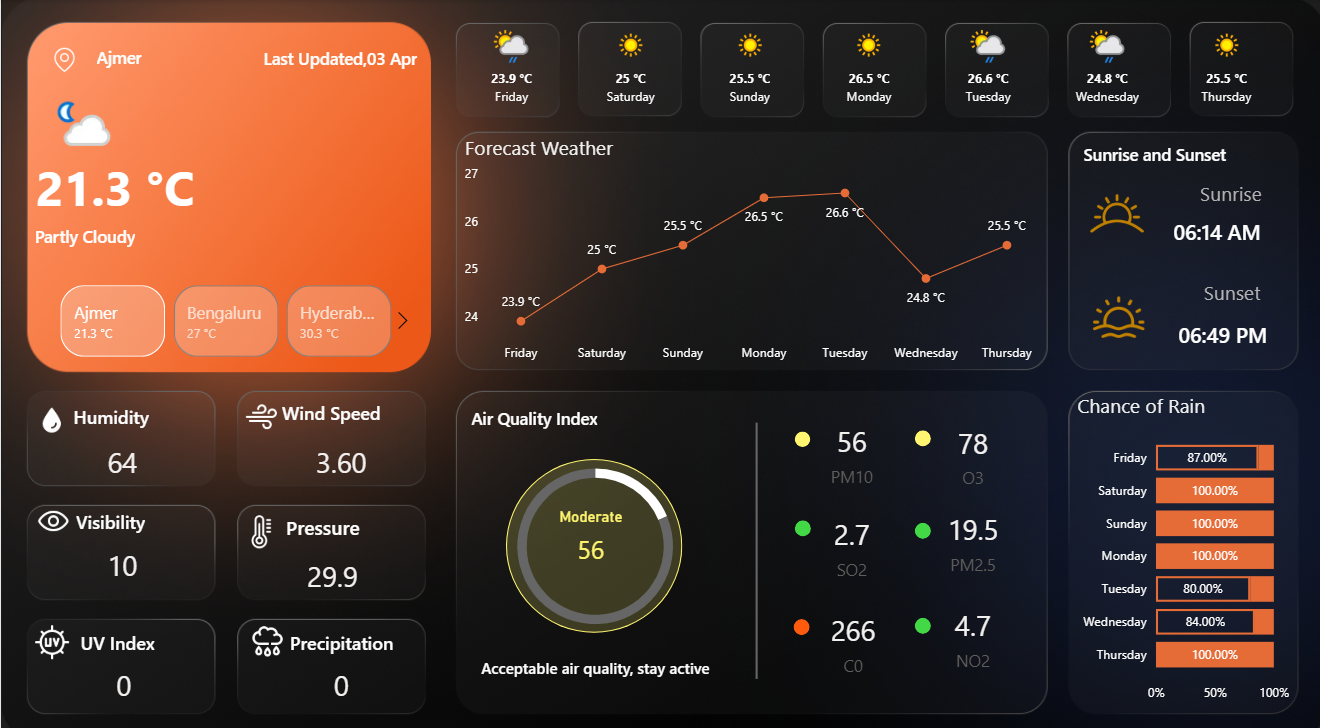

Layout of this report page (visuals, bound fields, positions):
{"tool":"powerbi","page":{"name":"Page 1","canvas":[1280,720],"ordinal":0},"visuals":[{"type":"advancedSlicerVisual","fields":{"Values":["Locations.location.name"],"Label":["_Measures.Curr_Temp_C"]},"box":[32.7,271.3,370.6,79.9],"z":0},{"type":"shape","box":[33.9,150.2,197.4,54.5],"z":1000},{"type":"shape","box":[32.7,204.7,296.7,47.2],"z":2000},{"type":"shape","box":[35,32.4,157.9,47.9],"z":3000},{"type":"shape","box":[235.3,33.8,184.6,47.1],"z":4000},{"type":"image","box":[16.8,46.6,89.3,23.3],"z":5000},{"type":"image","box":[36.2,389.6,25.9,33.7],"z":6000},{"type":"shape","box":[49.2,380.6,113.9,46.6],"z":7000},{"type":"image","box":[235.6,381.9,32.4,41.4],"z":8000},{"type":"shape","box":[235.6,375.4,167,47.9],"z":9000},{"type":"shape","box":[40.1,480.3,132,47.9],"z":10000},{"type":"shape","box":[53.1,596.8,119.1,47.9],"z":11000},{"type":"shape","box":[239.5,486.7,141.1,47.9],"z":12000},{"type":"shape","box":[264.1,596.8,129.5,47.9],"z":13000},{"type":"image","box":[32.4,486.7,36.2,35],"z":14000},{"type":"image","box":[235.6,493.2,32.4,41.4],"z":15000},{"type":"image","box":[29.8,603.2,38.8,35],"z":16000},{"type":"image","box":[235.6,601.9,44,36.2],"z":17000},{"type":"card","fields":{"Values":["Sum(Current.current.humidity)"]},"box":[34.1,423.1,167,50],"z":18000},{"type":"card","fields":{"Values":["Sum(Current.current.wind_kph)"]},"box":[245.1,423.1,167,50],"z":19000},{"type":"card","fields":{"Values":["Sum(Current.current.pressure_in)"]},"box":[236.5,532.8,167,50],"z":20000},{"type":"card","fields":{"Values":["Sum(Current.current.uv)"]},"box":[35.4,637.7,167,50],"z":21000},{"type":"card","fields":{"Values":["Sum(Current.current.precip_mm)"]},"box":[245.1,637.7,167,50],"z":22000},{"type":"card","fields":{"Values":["Sum(Current.current.vis_km)"]},"box":[34.1,521.9,167,50],"z":23000},{"type":"advancedSlicerVisual","fields":{"Values":["Forecast_Day.Day_Name"],"Label":["_Measures.For_Temp_C"]},"box":[434.1,18.3,809.6,102.4],"z":24000},{"type":"lineChart","title":"Forecast Weather","fields":{"Y":["Sum(Forecast_Day.forecast.forecastday.day.avgtemp_c)"],"Category":["Forecast_Day.Day_Name"]},"box":[442.8,130.3,564.6,229.2],"z":25000},{"type":"shape","box":[1033.9,126.7,159.3,45.8],"z":26000},{"type":"shape","box":[1131.6,265.4,113.4,35],"z":27000},{"type":"shape","box":[1131.6,197.9,112.2,54.3],"z":28000},{"type":"shape","box":[1136.5,296.8,112.2,54.3],"z":29000},{"type":"shape","box":[1130.4,172.5,113.4,29],"z":30000},{"type":"image","box":[1043.6,282.3,70,49.5],"z":31000},{"type":"image","box":[1041.2,172.5,72.4,68.8],"z":32000},{"type":"hundredPercentStackedBarChart","title":"Chance of Rain","fields":{"Y":["Sum(Forecast_Day.forecast.forecastday.day.daily_chance_of_rain)","Current.Left_value_Rain"],"Category":["Forecast_Day.Day_Name"]},"box":[1033.9,380,214.7,307.6],"z":33000},{"type":"shape","box":[442.2,380.8,144.1,46.3],"z":34000},{"type":"card","fields":{"Values":["Sum(Current.current.air_quality.pm10)"]},"box":[773.8,405.4,95.9,67.8],"z":35000},{"type":"card","fields":{"Values":["Sum(Current.current.air_quality.o3)"]},"box":[890.2,406.7,95.9,67.8],"z":36000},{"type":"card","fields":{"Values":["Sum(Current.current.air_quality.so2)"]},"box":[773.8,495,95.9,67.8],"z":37000},{"type":"card","fields":{"Values":["Sum(Current.current.air_quality.pm2_5)"]},"box":[890.2,489.8,95.9,67.8],"z":38000},{"type":"card","fields":{"Values":["Sum(Current.current.air_quality.no2)"]},"box":[890.2,583.2,95.9,67.8],"z":39000},{"type":"card","fields":{"Values":["Sum(Current.current.air_quality.co)"]},"box":[775.1,587.1,95.9,67.8],"z":40000},{"type":"shape","box":[766.1,417.4,15,15],"z":41000},{"type":"shape","box":[766.1,503.1,15.7,15.7],"z":42000},{"type":"shape","box":[764.9,598.4,15.7,15.7],"z":43000},{"type":"shape","box":[881.9,416.2,15.7,15.7],"z":44000},{"type":"shape","box":[881.9,505.5,15.7,15.7],"z":45000},{"type":"shape","box":[881.9,597.2,15.7,15.7],"z":46000},{"type":"shape","box":[685.3,409,88.1,247.3],"z":47000},{"type":"shape","box":[487.4,444,170.1,167.7],"z":48000},{"type":"card","fields":{"Values":["Sum(Current.current.air_quality.pm10)"]},"box":[528.4,491,82,66.4],"z":49000},{"type":"donutChart","fields":{"Y":["Sum(Current.current.air_quality.pm10)","_Measures.Left_value_PM10"]},"box":[458.4,429.5,230.4,197.9],"z":50000},{"type":"shape","box":[451.2,622.5,244.9,45.8],"z":51000},{"type":"cardVisual","fields":{"Data":["Min(Current.current.condition.icon)"]},"box":[26.5,18.1,106.2,156.8],"z":52000}]}

Visuals, with their boxes in screenshot pixels (x1, y1, x2, y2), scaled from the page's 1280x720 canvas onto the 1320x728 screenshot:
advancedSlicerVisual - Locations.location.name x _Measures.Curr_Temp_C: x1=34, y1=274, x2=416, y2=355
shape: x1=35, y1=152, x2=239, y2=207
shape: x1=34, y1=207, x2=340, y2=255
shape: x1=36, y1=33, x2=199, y2=81
shape: x1=243, y1=34, x2=433, y2=82
image: x1=17, y1=47, x2=109, y2=71
image: x1=37, y1=394, x2=64, y2=428
shape: x1=51, y1=385, x2=168, y2=432
image: x1=243, y1=386, x2=276, y2=428
shape: x1=243, y1=380, x2=415, y2=428
shape: x1=41, y1=486, x2=177, y2=534
shape: x1=55, y1=603, x2=178, y2=652
shape: x1=247, y1=492, x2=392, y2=541
shape: x1=272, y1=603, x2=406, y2=652
image: x1=33, y1=492, x2=71, y2=527
image: x1=243, y1=499, x2=276, y2=541
image: x1=31, y1=610, x2=71, y2=645
image: x1=243, y1=609, x2=288, y2=645
card - Sum(Current.current.humidity): x1=35, y1=428, x2=207, y2=478
card - Sum(Current.current.wind_kph): x1=253, y1=428, x2=425, y2=478
card - Sum(Current.current.pressure_in): x1=244, y1=539, x2=416, y2=589
card - Sum(Current.current.uv): x1=37, y1=645, x2=209, y2=695
card - Sum(Current.current.precip_mm): x1=253, y1=645, x2=425, y2=695
card - Sum(Current.current.vis_km): x1=35, y1=528, x2=207, y2=578
advancedSlicerVisual - Forecast_Day.Day_Name x _Measures.For_Temp_C: x1=448, y1=19, x2=1283, y2=122
"Forecast Weather" lineChart: x1=457, y1=132, x2=1039, y2=363
shape: x1=1066, y1=128, x2=1230, y2=174
shape: x1=1167, y1=268, x2=1284, y2=304
shape: x1=1167, y1=200, x2=1283, y2=255
shape: x1=1172, y1=300, x2=1288, y2=355
shape: x1=1166, y1=174, x2=1283, y2=204
image: x1=1076, y1=285, x2=1148, y2=335
image: x1=1074, y1=174, x2=1148, y2=244
"Chance of Rain" hundredPercentStackedBarChart: x1=1066, y1=384, x2=1288, y2=695
shape: x1=456, y1=385, x2=605, y2=432
card - Sum(Current.current.air_quality.pm10): x1=798, y1=410, x2=897, y2=478
card - Sum(Current.current.air_quality.o3): x1=918, y1=411, x2=1017, y2=480
card - Sum(Current.current.air_quality.so2): x1=798, y1=500, x2=897, y2=569
card - Sum(Current.current.air_quality.pm2_5): x1=918, y1=495, x2=1017, y2=564
card - Sum(Current.current.air_quality.no2): x1=918, y1=590, x2=1017, y2=658
card - Sum(Current.current.air_quality.co): x1=799, y1=594, x2=898, y2=662
shape: x1=790, y1=422, x2=806, y2=437
shape: x1=790, y1=509, x2=806, y2=525
shape: x1=789, y1=605, x2=805, y2=621
shape: x1=909, y1=421, x2=926, y2=437
shape: x1=909, y1=511, x2=926, y2=527
shape: x1=909, y1=604, x2=926, y2=620
shape: x1=707, y1=414, x2=798, y2=664
shape: x1=503, y1=449, x2=678, y2=618
card - Sum(Current.current.air_quality.pm10): x1=545, y1=496, x2=629, y2=564
donutChart - Sum(Current.current.air_quality.pm10) x _Measures.Left_value_PM10: x1=473, y1=434, x2=710, y2=634
shape: x1=465, y1=629, x2=718, y2=676
cardVisual - Min(Current.current.condition.icon): x1=27, y1=18, x2=137, y2=177
